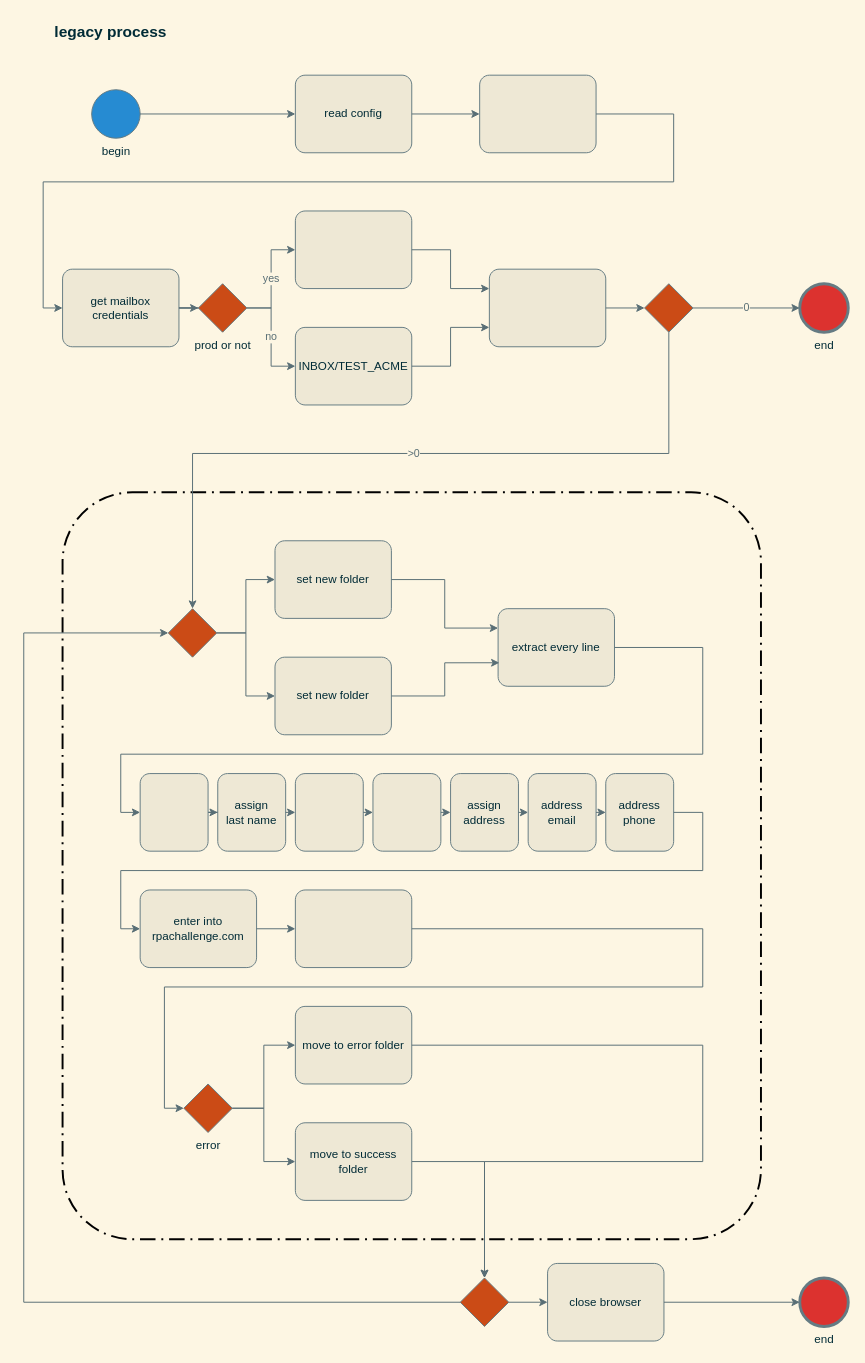
Some shapes in this 865 by 1363 pixel diagram are drawn without their labels. Here are the shapes that lost their labels. From the top down, the centre of each, then its label:
At point (537, 113): "open browser".
At point (353, 249): "RPA/Purposeful Promethium/incoming".
At point (547, 307): "Get IMAP Mail Messages".
At point (668, 307): "how many".
At point (192, 632): "subject new".
At point (173, 812): "assign first name".
At point (328, 812): "assign role".
At point (406, 812): "assign company".
At point (353, 928): "submit".
At point (484, 1301): "more".
